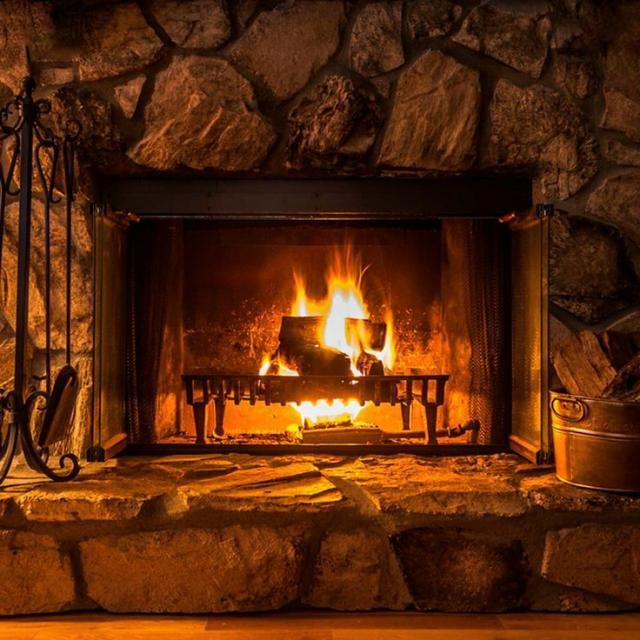Fire: (237, 227, 452, 428)
